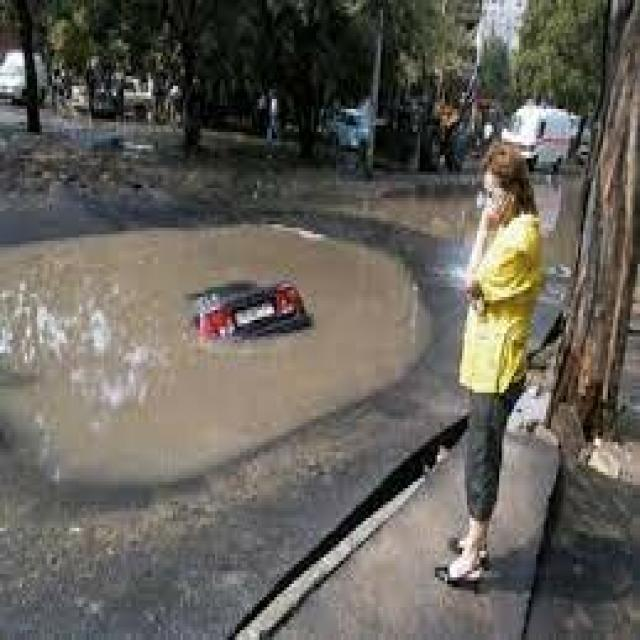pothole: (3, 214, 448, 538)
